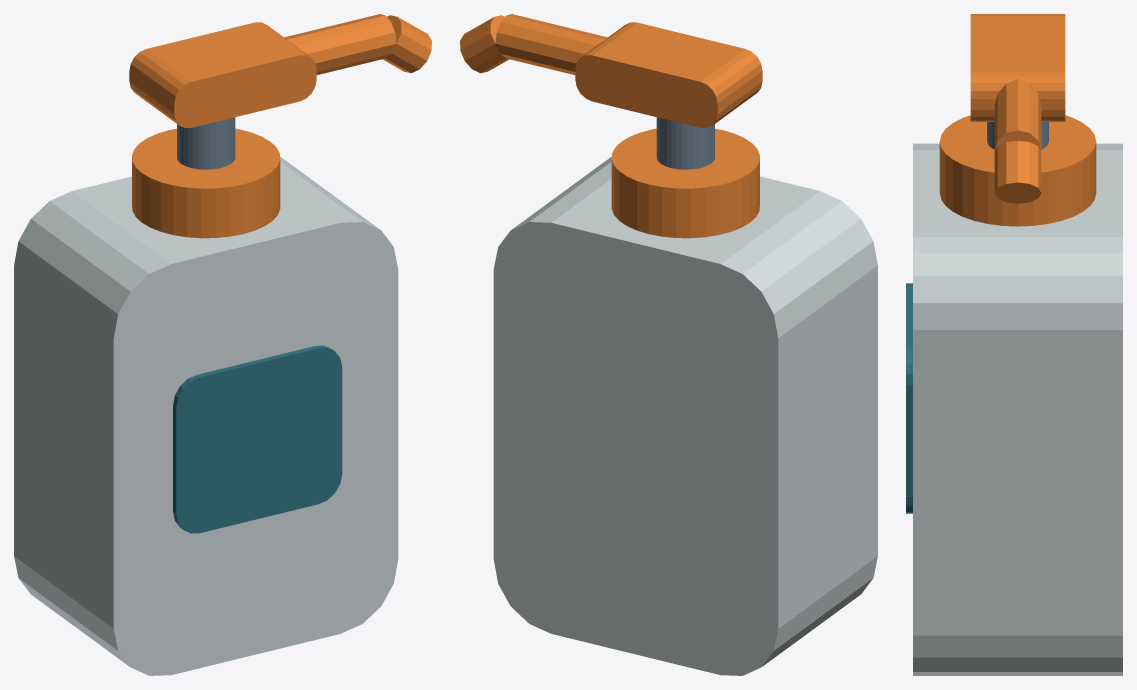
The model's file is pump.glb.
The picture shows the model from 3 angles, left to right: view 1: azimuth 30°, elevation 25°; view 2: azimuth 150°, elevation 25°; view 3: azimuth 270°, elevation 25°; orthographic projection. The views are drawn at different scales.
Parts seen in each view (by area): view 1: bottle body, label, pump head, neck, spout0, piston, spout1; view 2: bottle body, pump head, neck, spout0, piston, spout1; view 3: bottle body, neck, pump head, spout1, spout0, label, piston.
Part boxes in pixels (x1,y1,x2,y2): bottle body: (14,157,398,675); label: (173,345,342,533); pump head: (129,22,316,127); neck: (132,128,280,238); spout0: (284,14,396,74); piston: (177,117,235,169); spout1: (383,15,431,73); bottle body: (493,157,877,675); pump head: (575,22,762,127); neck: (611,128,759,238); spout0: (495,14,607,74); piston: (656,117,714,169); spout1: (460,15,508,73); bottle body: (913,143,1122,675); neck: (939,115,1096,226); pump head: (970,14,1065,121); spout1: (994,140,1041,203); spout0: (994,79,1041,150); label: (906,283,912,513); piston: (987,122,1048,149).
Size of the model in its own units: 1.07 by 1.58 by 0.527.
